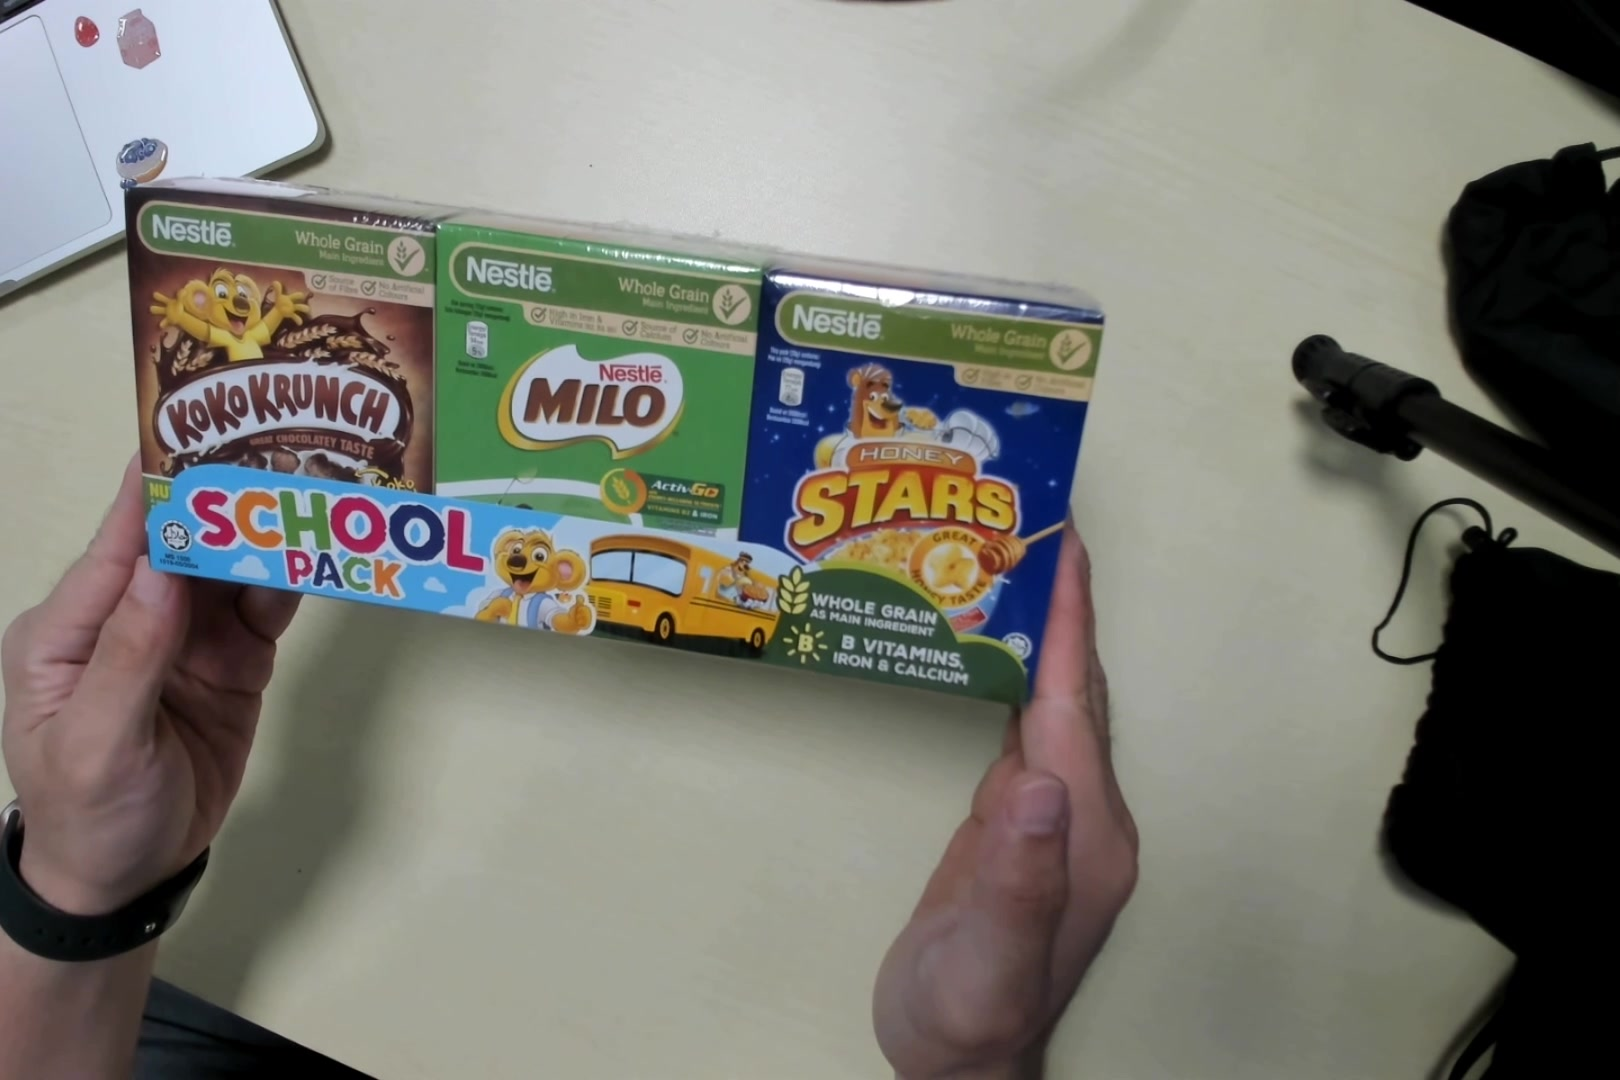BreakfastCereals_100-199g_Halal_NonHealthy: (125, 171, 1078, 695)
